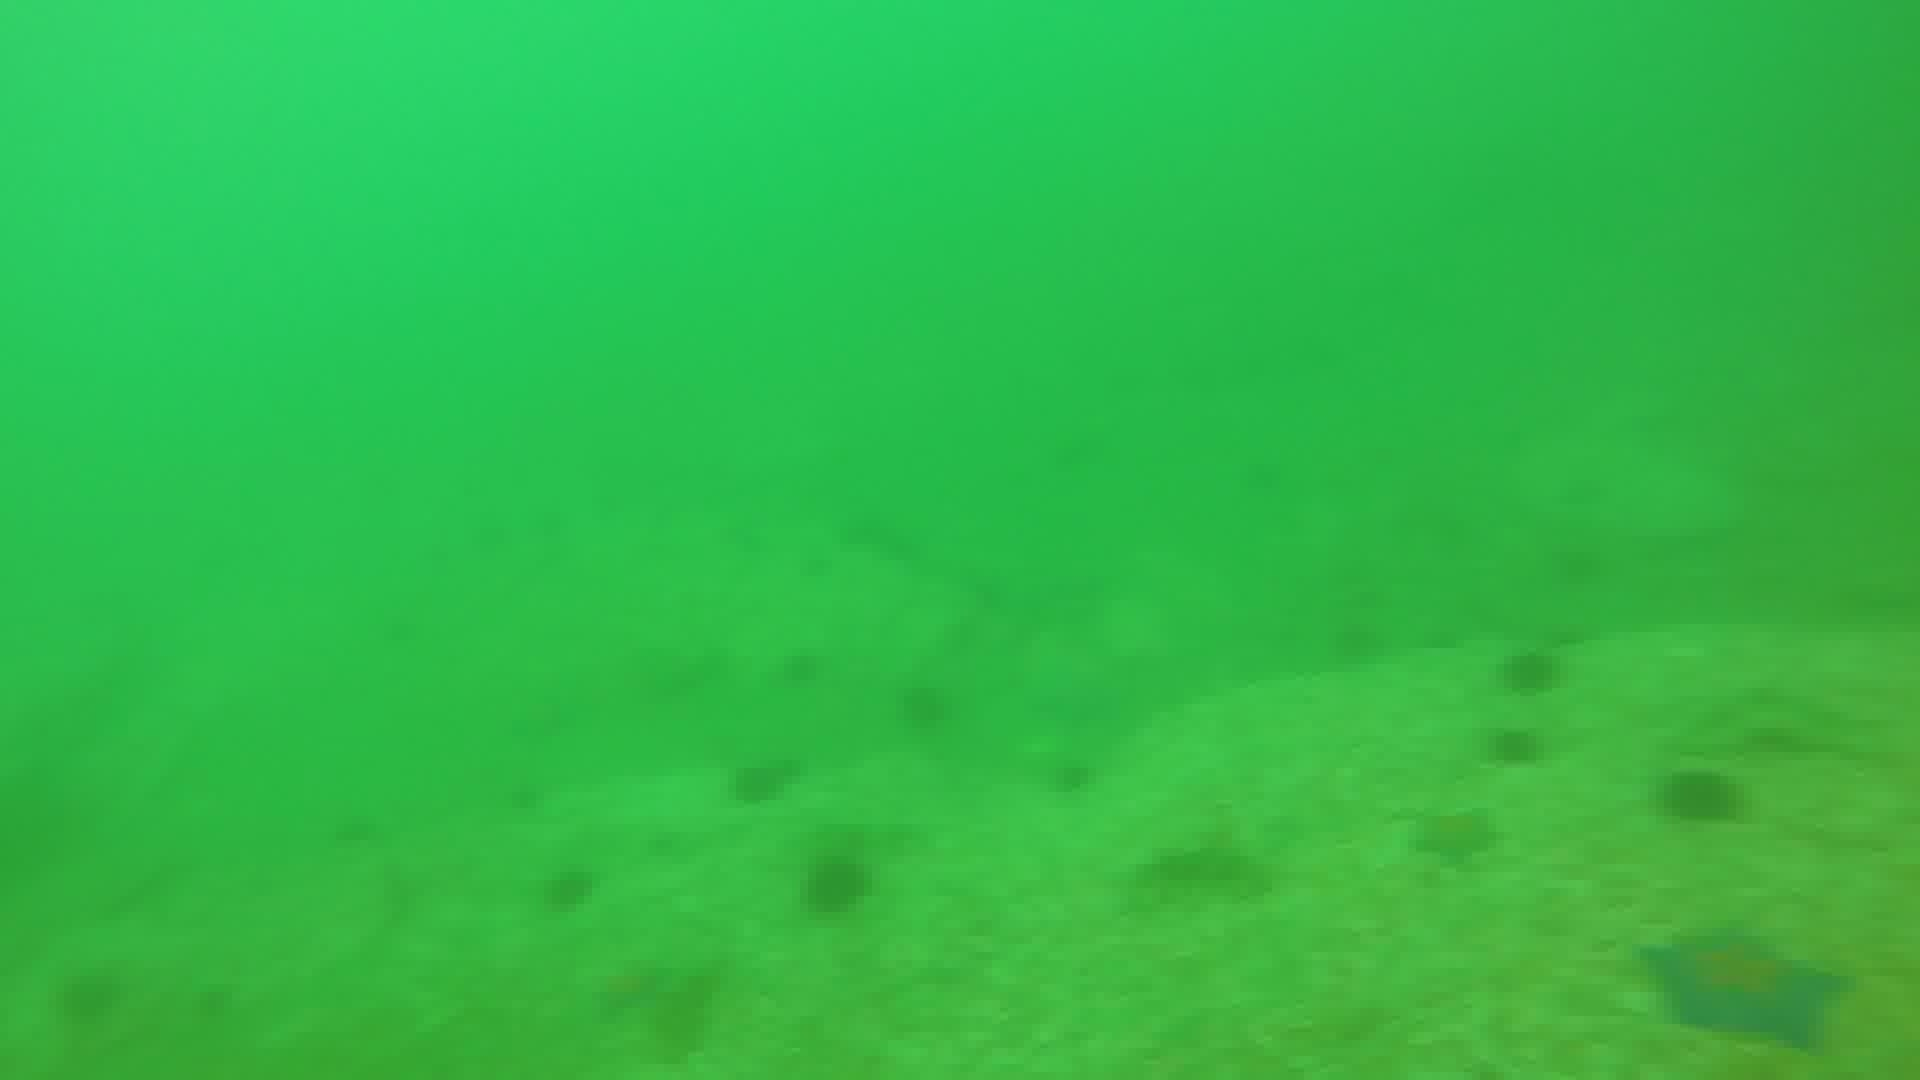echinus: (1133, 829, 1274, 909), (1655, 762, 1749, 829), (796, 849, 876, 919), (51, 961, 127, 1029), (724, 752, 800, 810), (1494, 642, 1567, 700), (893, 675, 957, 735), (535, 860, 603, 916), (1482, 723, 1547, 771), (1042, 752, 1101, 800), (775, 644, 829, 691)
starfish: (1636, 924, 1849, 1054), (1404, 803, 1503, 872), (587, 953, 679, 1025)
